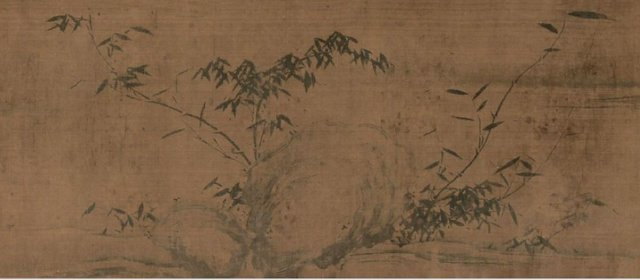bamboo: (52, 12, 396, 157), (399, 82, 561, 257)
hill: (185, 121, 394, 277)
